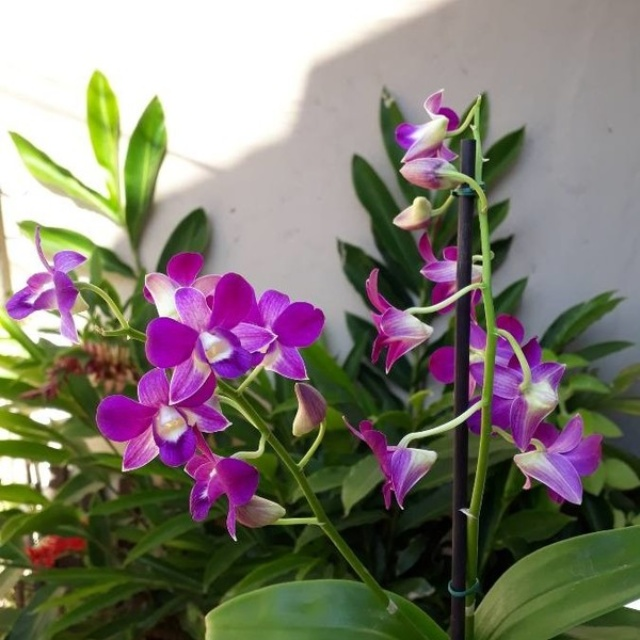obstacle: (43, 80, 589, 546)
